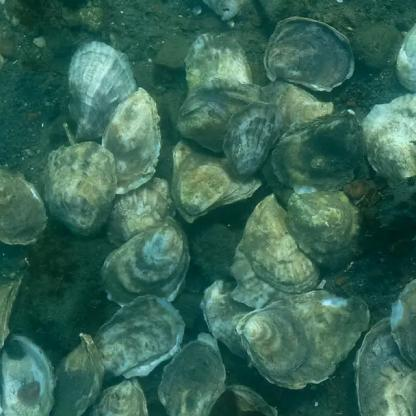Oyster- Indeterminate: (94, 298, 186, 378)
Oyster-Closed: (236, 290, 370, 387), (99, 217, 190, 308), (270, 109, 368, 191), (244, 193, 323, 294), (173, 137, 265, 222), (69, 41, 139, 145), (43, 142, 117, 240), (177, 79, 271, 153), (263, 17, 354, 93), (102, 89, 163, 195), (353, 317, 416, 416), (288, 189, 365, 267), (158, 333, 226, 416), (105, 176, 175, 247), (223, 102, 285, 180), (50, 333, 106, 416), (230, 239, 296, 308), (362, 94, 416, 178), (201, 280, 257, 361), (265, 81, 335, 140), (183, 34, 254, 92), (0, 166, 47, 245), (84, 380, 150, 416), (391, 279, 416, 372), (211, 385, 277, 416), (0, 278, 20, 352), (395, 25, 416, 93), (202, 0, 249, 20)
